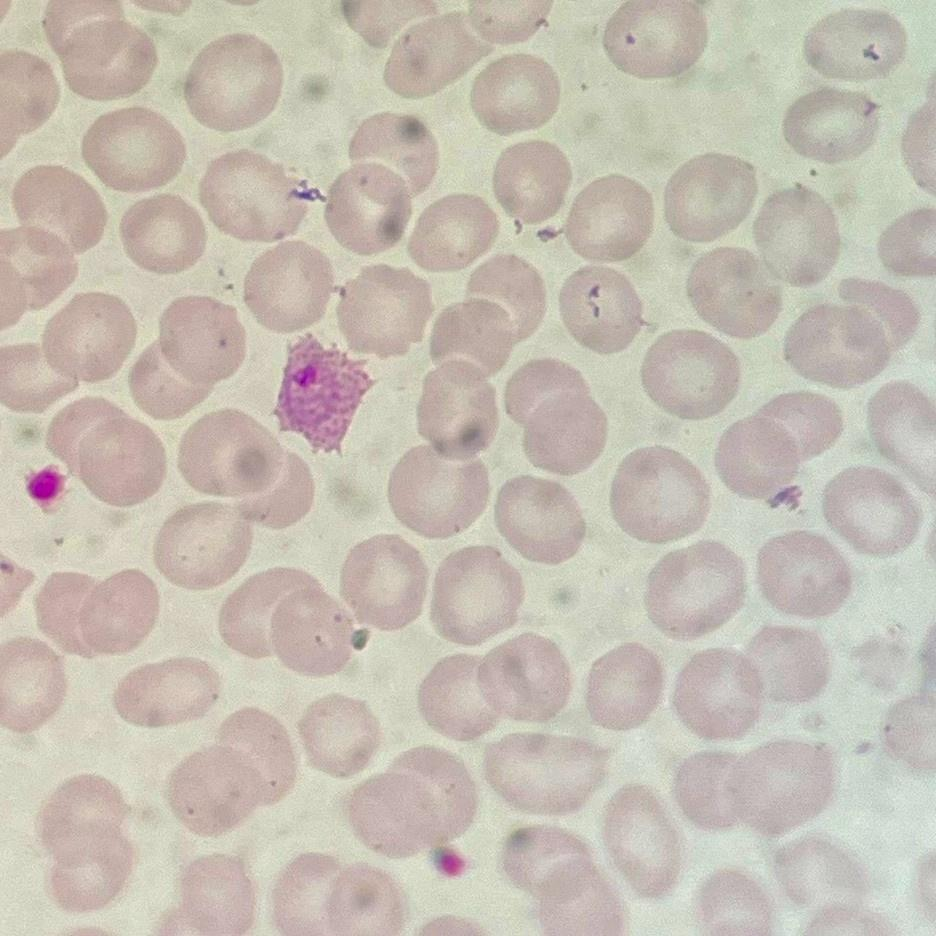Infected: (272, 329, 372, 464)
Uninfected: (676, 735, 834, 838), (44, 394, 170, 510), (36, 774, 137, 909), (500, 821, 621, 922), (502, 359, 607, 474), (714, 403, 826, 503), (45, 5, 158, 101), (484, 729, 613, 813), (168, 745, 281, 839), (348, 765, 466, 855), (176, 407, 287, 500), (199, 150, 307, 243), (608, 446, 710, 543), (182, 34, 284, 131), (386, 443, 489, 539), (641, 538, 744, 634), (783, 300, 895, 388), (40, 290, 139, 384), (638, 330, 740, 421), (599, 786, 683, 896), (385, 12, 491, 99), (240, 239, 337, 334), (10, 162, 107, 257), (429, 546, 523, 643), (668, 646, 765, 740), (471, 633, 569, 726), (819, 465, 918, 557), (82, 106, 186, 193), (152, 502, 253, 591), (336, 264, 433, 356), (338, 535, 429, 632), (684, 247, 782, 337), (661, 153, 760, 242), (153, 294, 246, 387), (413, 362, 501, 460), (753, 528, 848, 618), (217, 568, 307, 663), (265, 585, 358, 676), (493, 474, 587, 563), (560, 173, 654, 261), (753, 188, 840, 283), (602, 0, 706, 79), (323, 166, 415, 255), (557, 264, 648, 352), (69, 569, 160, 657), (461, 252, 546, 344), (408, 193, 504, 274), (162, 852, 258, 933), (741, 622, 830, 709), (348, 111, 439, 195), (803, 8, 907, 81), (209, 706, 297, 792), (782, 88, 879, 165), (114, 655, 217, 727), (489, 139, 574, 226), (119, 193, 208, 276), (469, 53, 561, 133), (295, 694, 382, 778), (425, 297, 517, 375), (583, 643, 665, 730), (832, 277, 921, 357), (777, 835, 868, 912), (416, 654, 498, 738), (313, 862, 407, 935), (128, 342, 214, 420), (0, 639, 66, 731), (0, 341, 76, 413)
